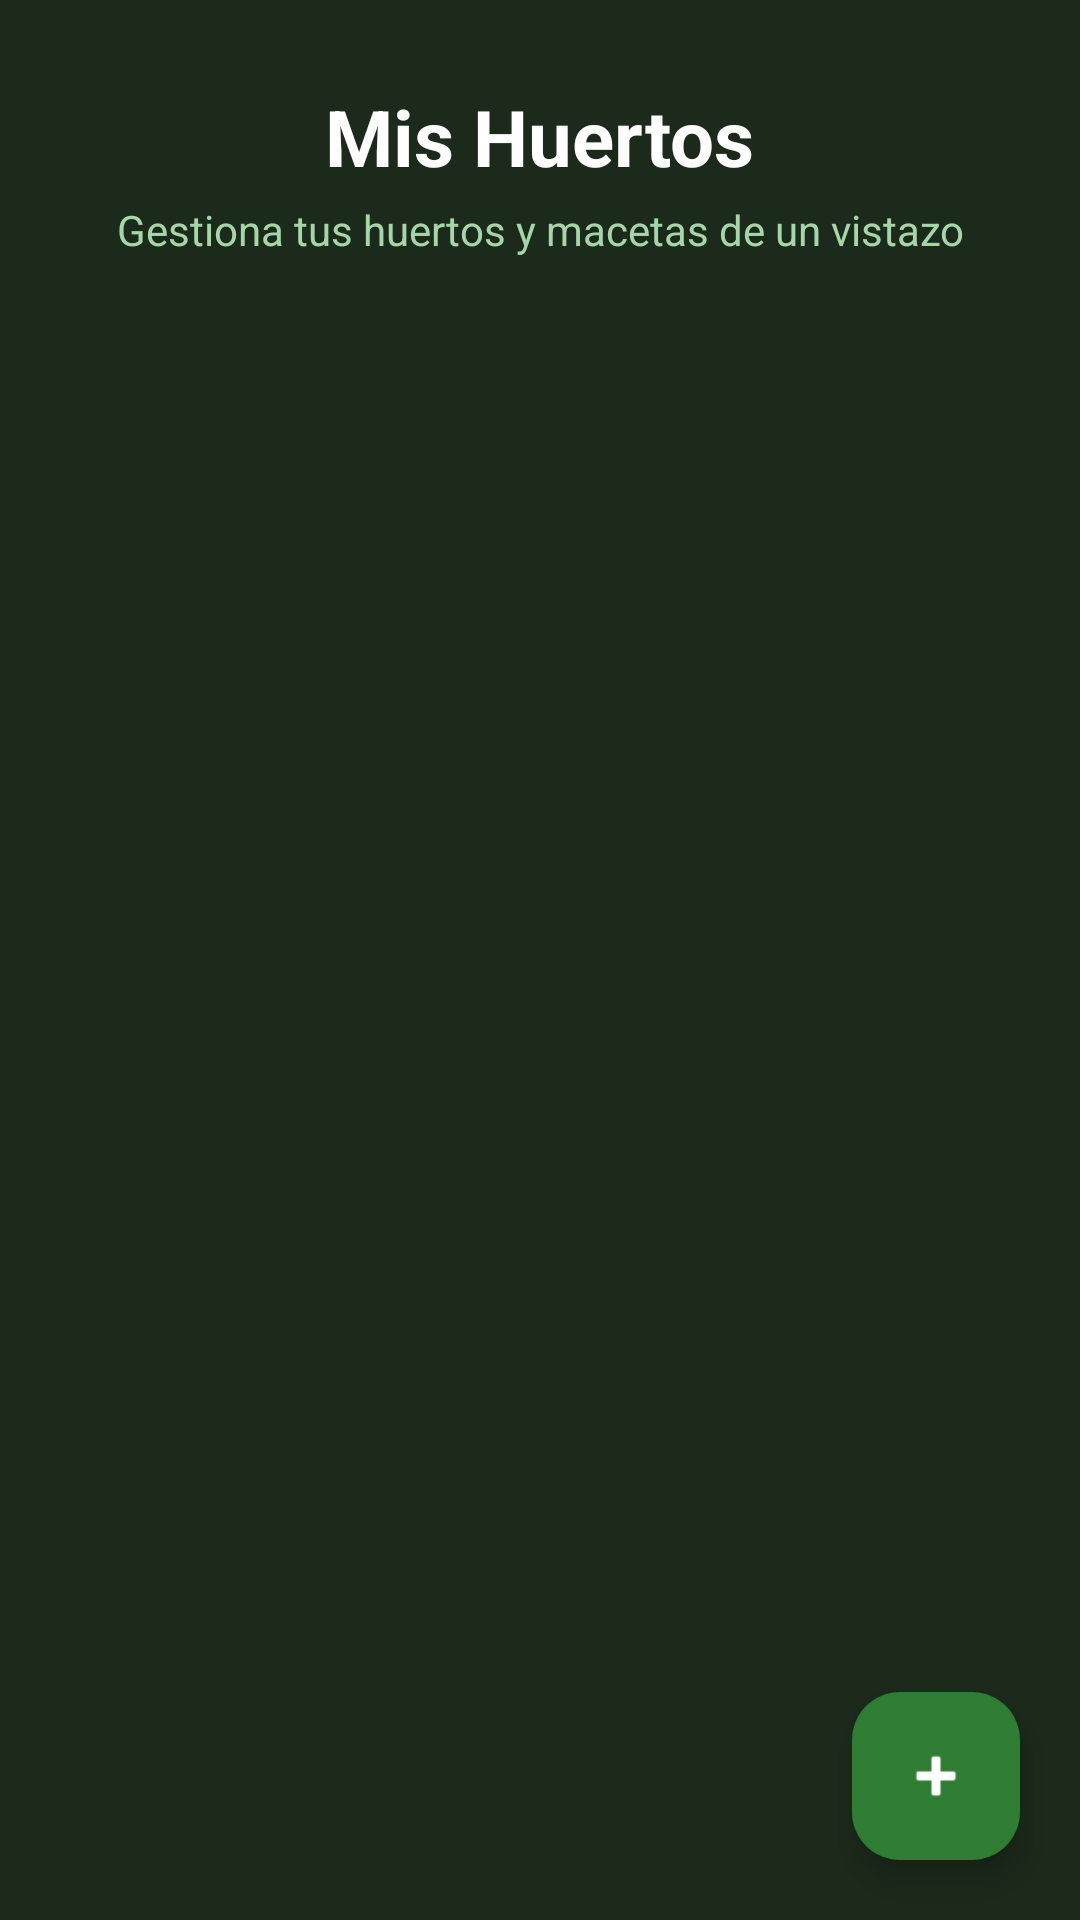

Icon bounding boxes for this 1080px x 1920px phone screenshot, format (x1, y1, x2, y2):
Agregar huerto: (852, 1692, 1020, 1860)
